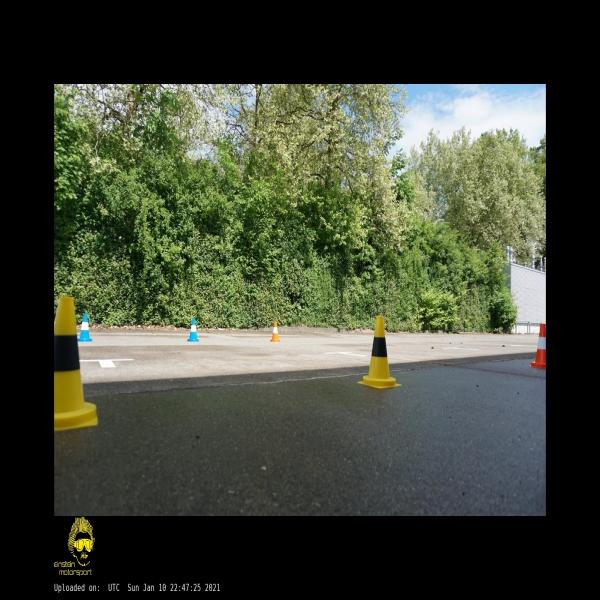blue_cone: (77, 314, 92, 341), (187, 318, 199, 341)
orange_cone: (530, 324, 546, 368), (270, 320, 280, 342)
yellow_cone: (54, 296, 98, 431), (358, 316, 401, 388)
